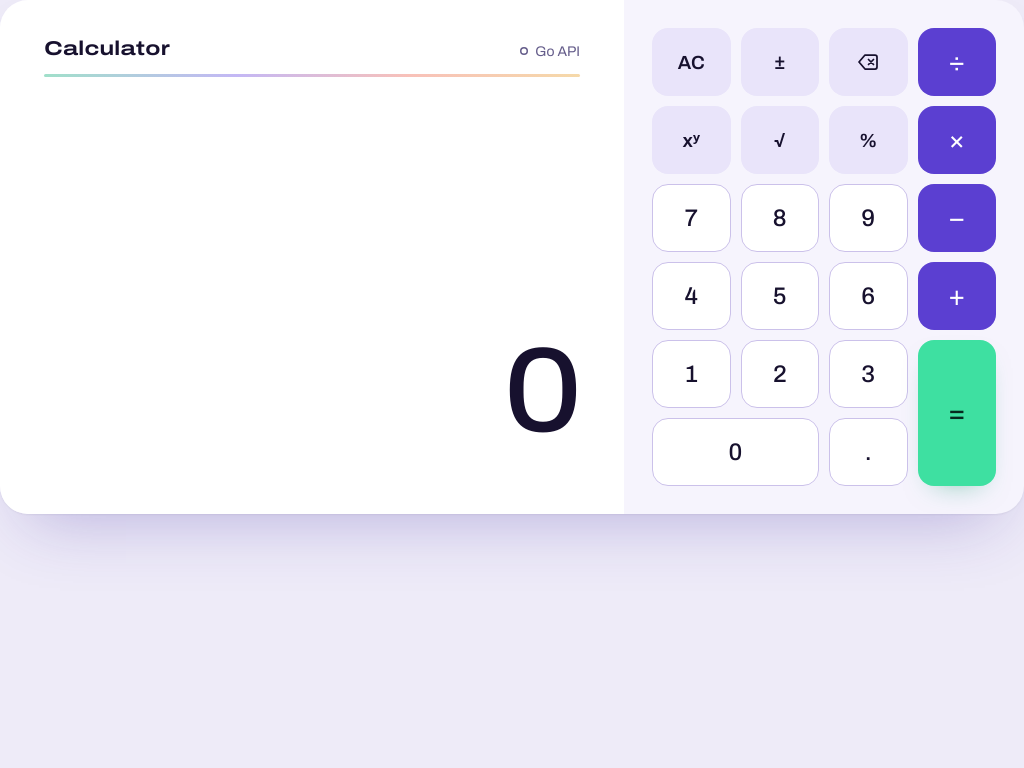
Calculator › explains when the calculator service cannot be reached
Click the button "2". click: (780, 374)
box: [740, 340, 819, 408]
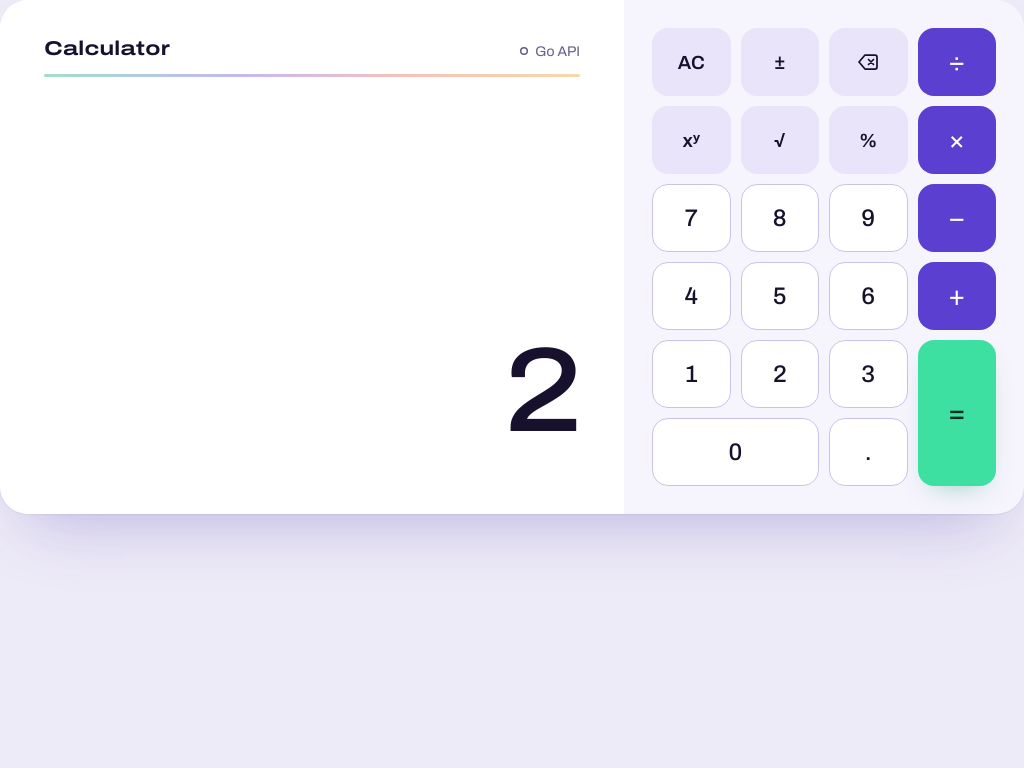
Click the button named "Add". click: (957, 296)
box: [918, 262, 996, 330]
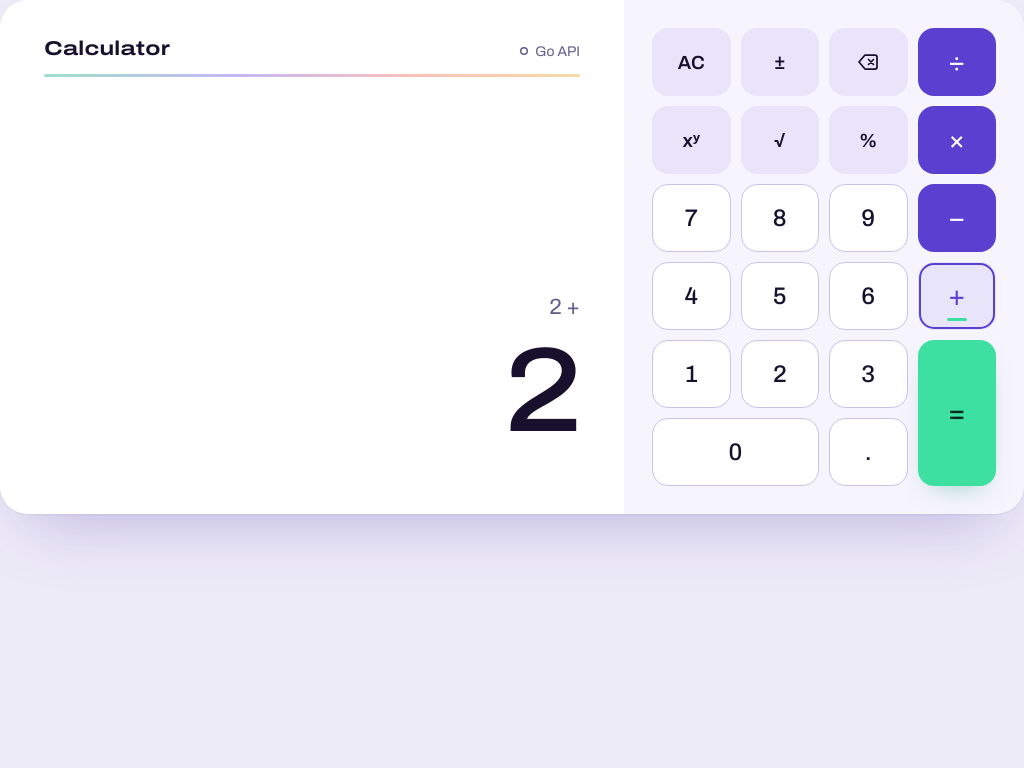
Click the button "3". click: (868, 374)
box: [829, 340, 908, 408]
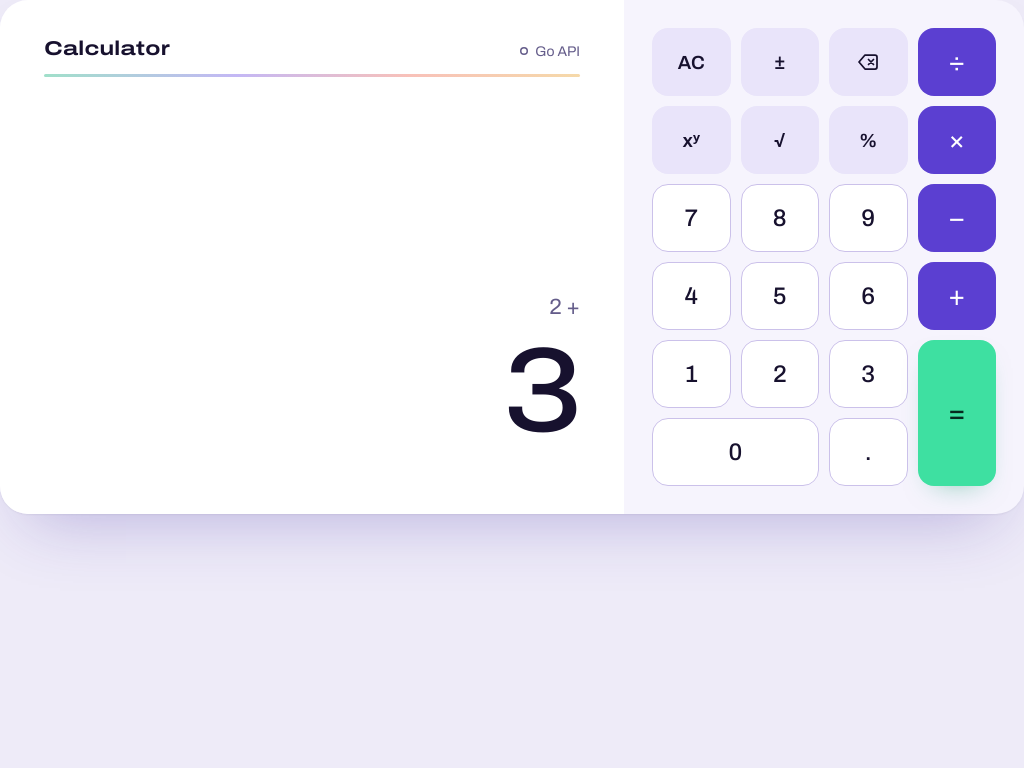
Click the button named "Equals". click: (957, 413)
box: [918, 340, 996, 486]
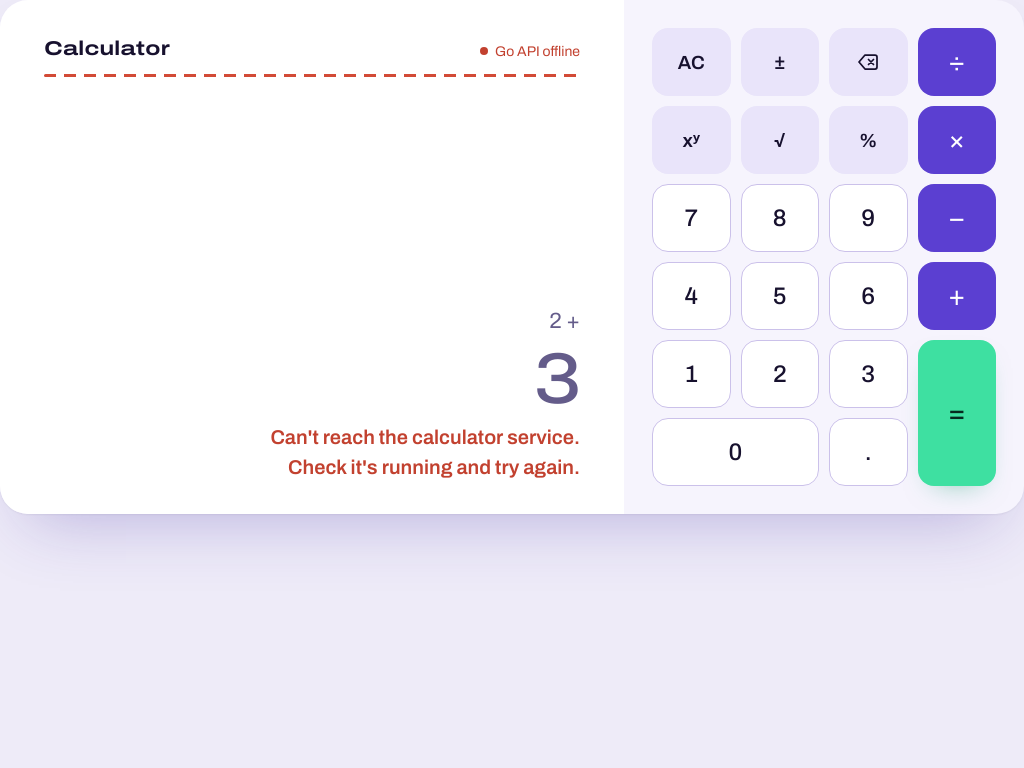
Now the message shows "Can't reach the calculator service", box [270, 426, 580, 478]
Now the element with test id "api-status" reads "Go API offline", box [495, 44, 580, 58]
